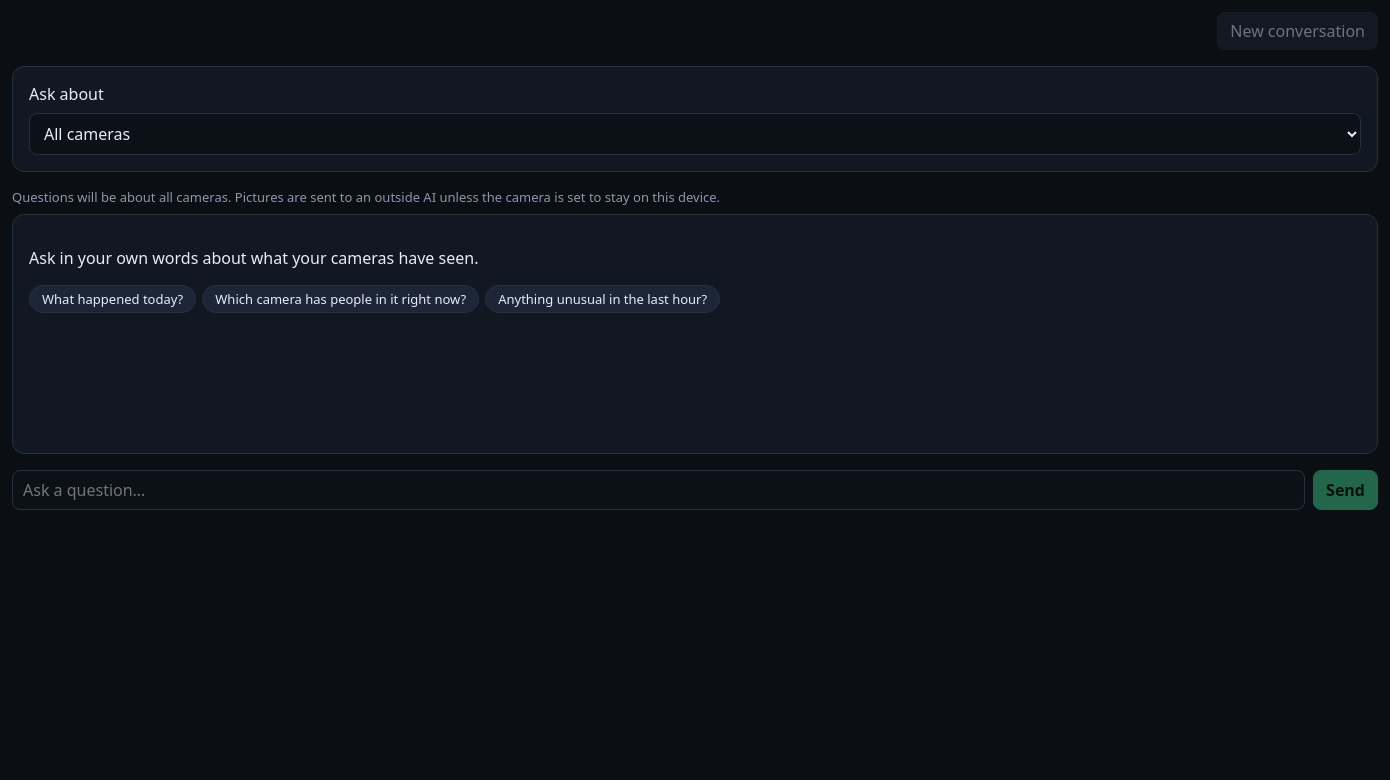
Test: ChatPanel › falls back to a one-shot answer when the server cannot stream: sends a question and shows answer, frame and citation chip
Click the button "What happened today?": x=113, y=299 x1=29 y1=285 x2=196 y2=313
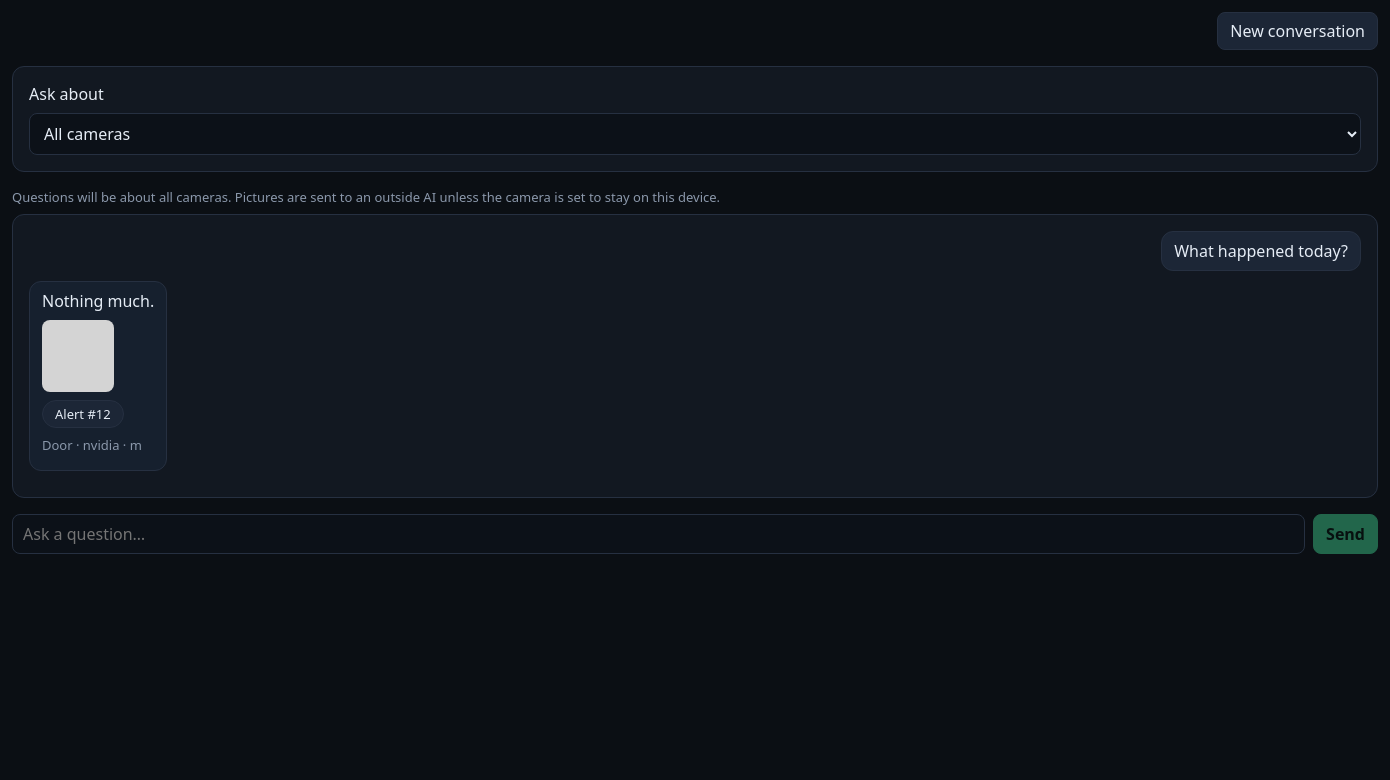
Expected: the text "Nothing much." is shown, x1=42 y1=290 x2=154 y2=312
Expected: the button "Alert #12" is shown, x1=42 y1=400 x2=124 y2=428
Click the button "New conversation": x=1298, y=31 x1=1217 y1=12 x2=1378 y2=50
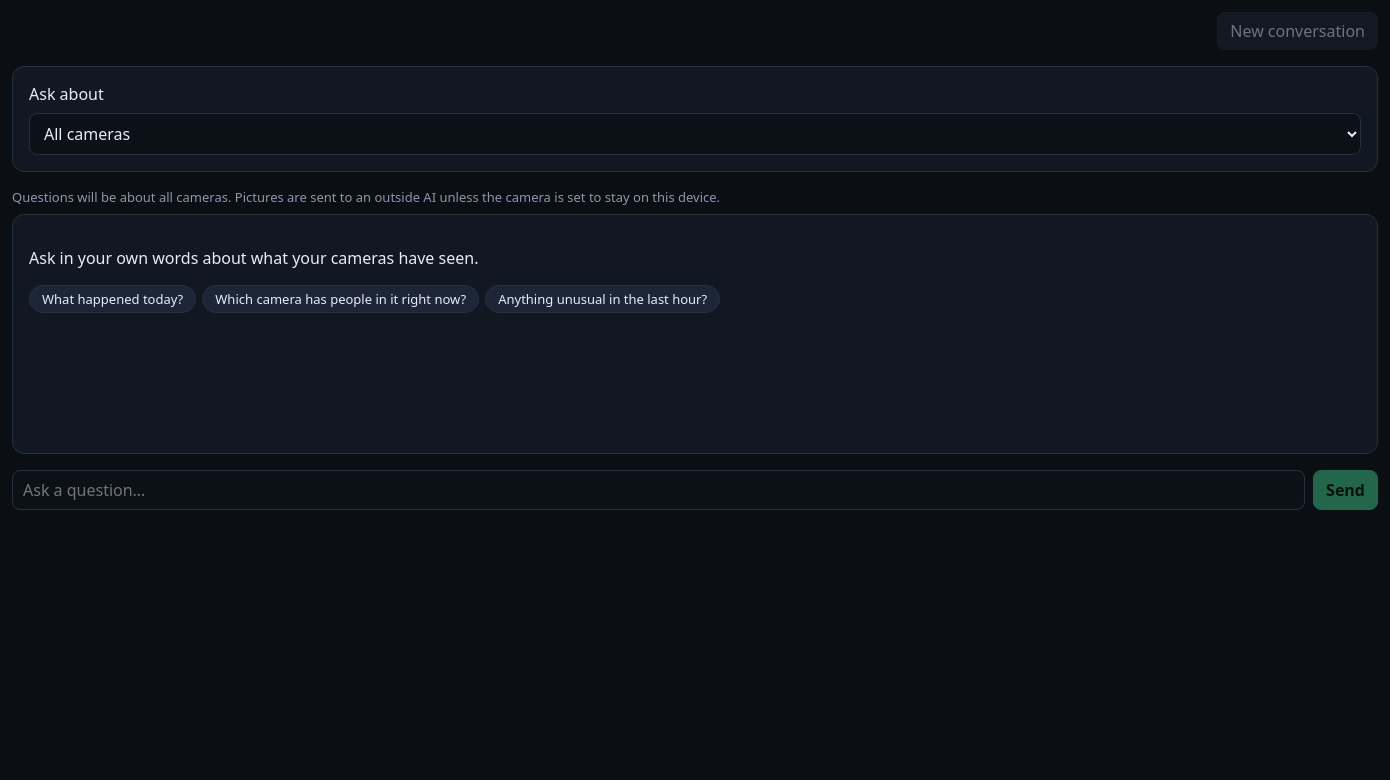
Expected: the text "Nothing much." is gone
